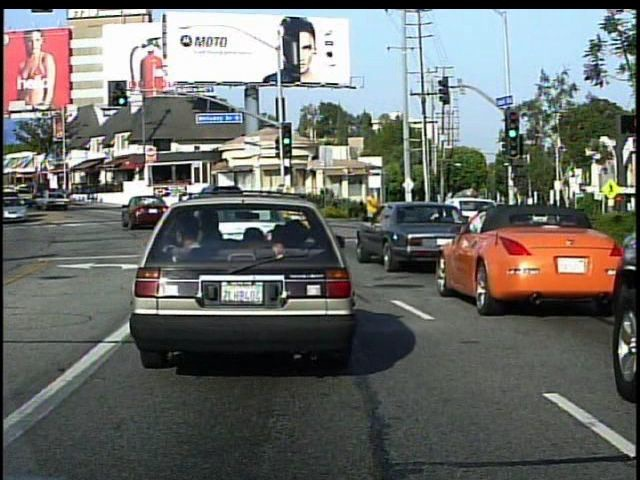person: (410, 187, 431, 235), (364, 188, 383, 228)
